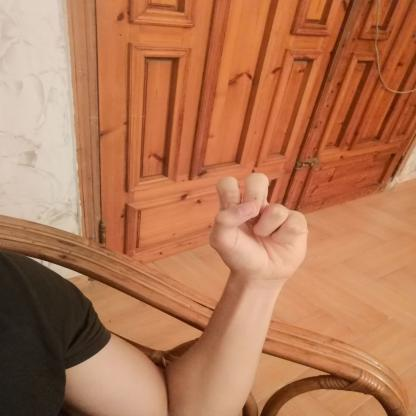QAAF: (193, 165, 324, 287)
